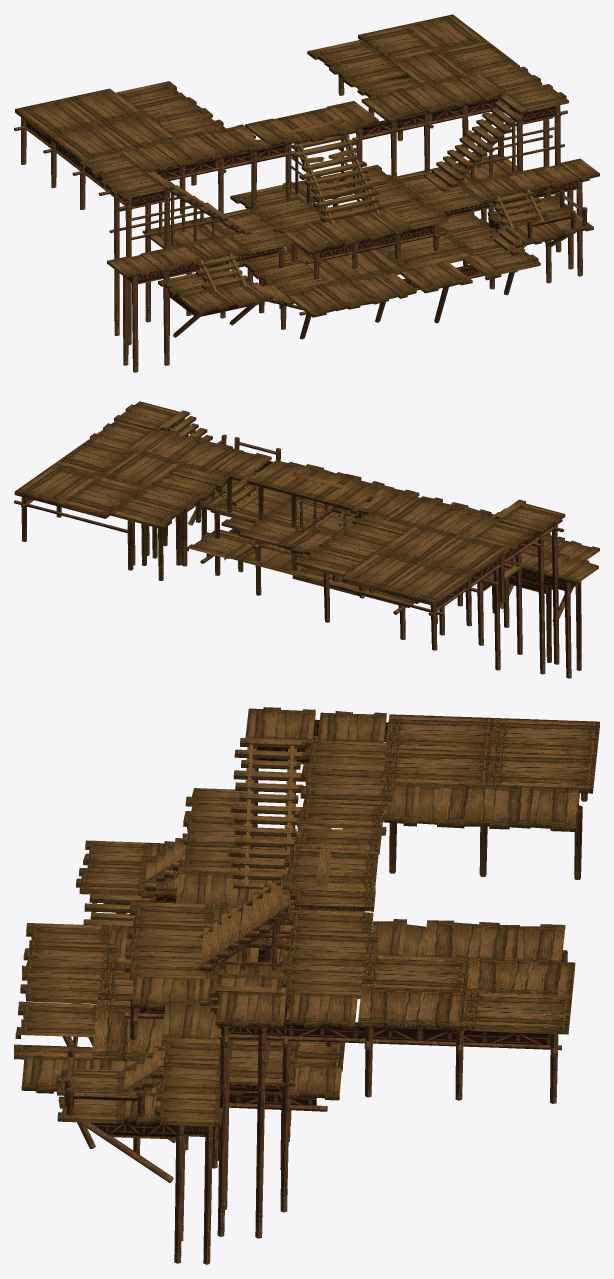
Rendered from ss_jiazi_1.FBX.
3 renders of one model, top to bottom at view 1: azimuth 30°, elevation 25°; view 2: azimuth 150°, elevation 25°; view 3: azimuth 270°, elevation 25°, orthographic. The views are drawn at different scales.
Visible parts, largest first — view 1: ss_jiazi_1; view 2: ss_jiazi_1; view 3: ss_jiazi_1.
Boxes of the visible parts, x1,y1,x2,y2 form: ss_jiazi_1: (14, 14, 599, 372); ss_jiazi_1: (14, 401, 599, 678); ss_jiazi_1: (14, 707, 599, 1264).
Bounding box in the file's own units: 2915 × 2182 × 1012.
